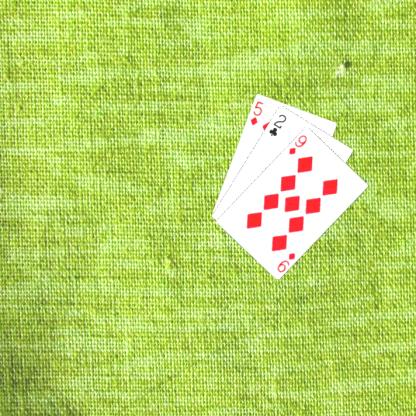2C: (266, 111, 287, 137)
5D: (248, 98, 264, 126)
9D: (286, 132, 308, 155), (275, 250, 296, 274)
